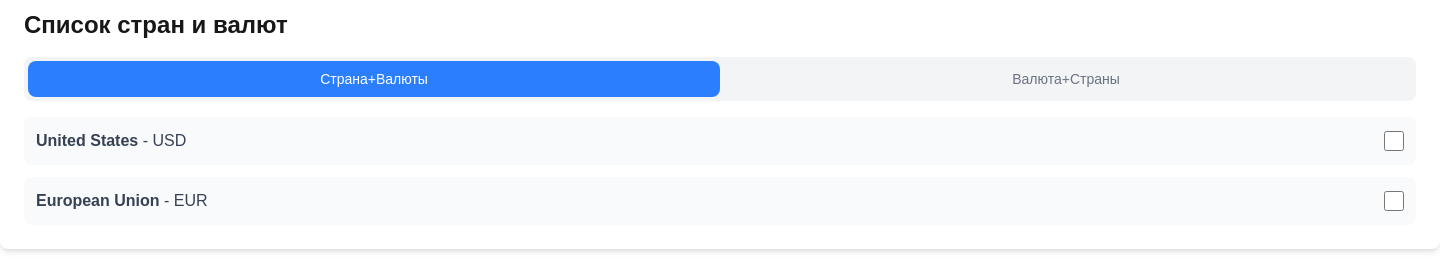
Test: CountryList › переключает режим отображения на "валюта+страны"
Click the button "Валюта+Страны": [1066, 79] box [720,61,1412,97]
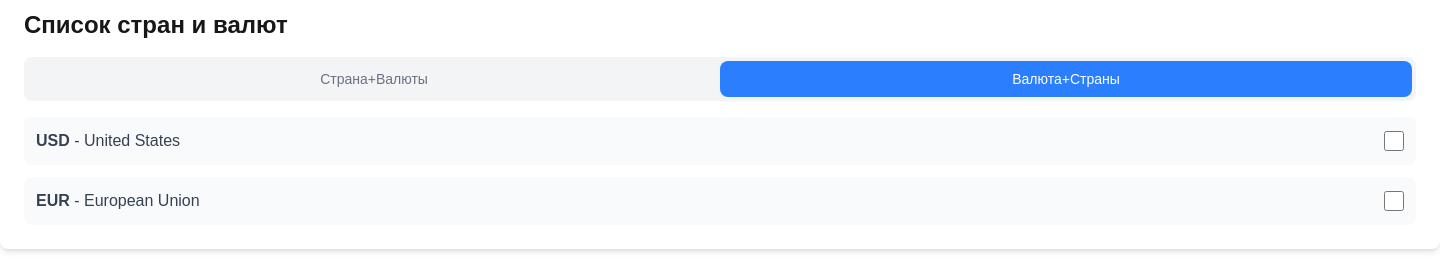
expect the text "USD - United States" is shown: met, box [36,129,180,153]
expect the text "USD" is shown: met, box [36,132,70,149]
